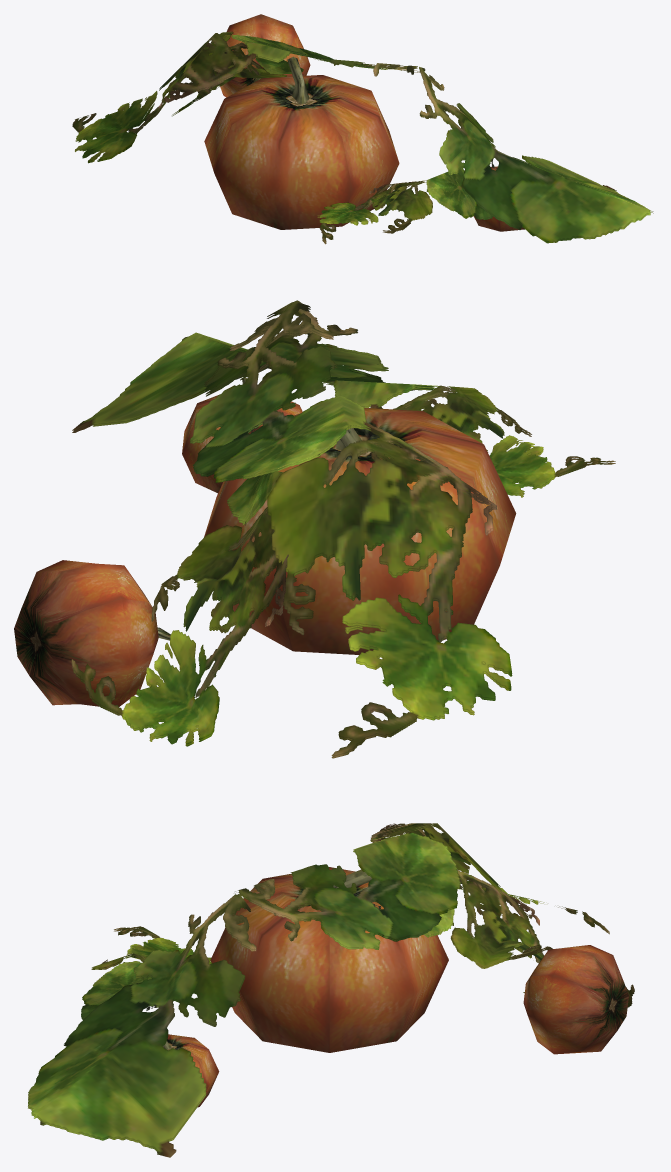
Rendered from wm_蔬菜南瓜01.fbx.
The picture shows the model from 3 angles, top to bottom: view 1: azimuth 30°, elevation 25°; view 2: azimuth 150°, elevation 25°; view 3: azimuth 270°, elevation 25°; orthographic projection. The views are drawn at different scales.
Parts seen in each view (by area): view 1: wm_蔬菜南瓜01; view 2: wm_蔬菜南瓜01; view 3: wm_蔬菜南瓜01.
Part boxes in pixels (bbox=[...]): wm_蔬菜南瓜01: bbox=[72, 14, 653, 244]; wm_蔬菜南瓜01: bbox=[14, 300, 615, 758]; wm_蔬菜南瓜01: bbox=[28, 823, 634, 1157].
Bounding box in the file's own units: 299 × 104 × 319.
